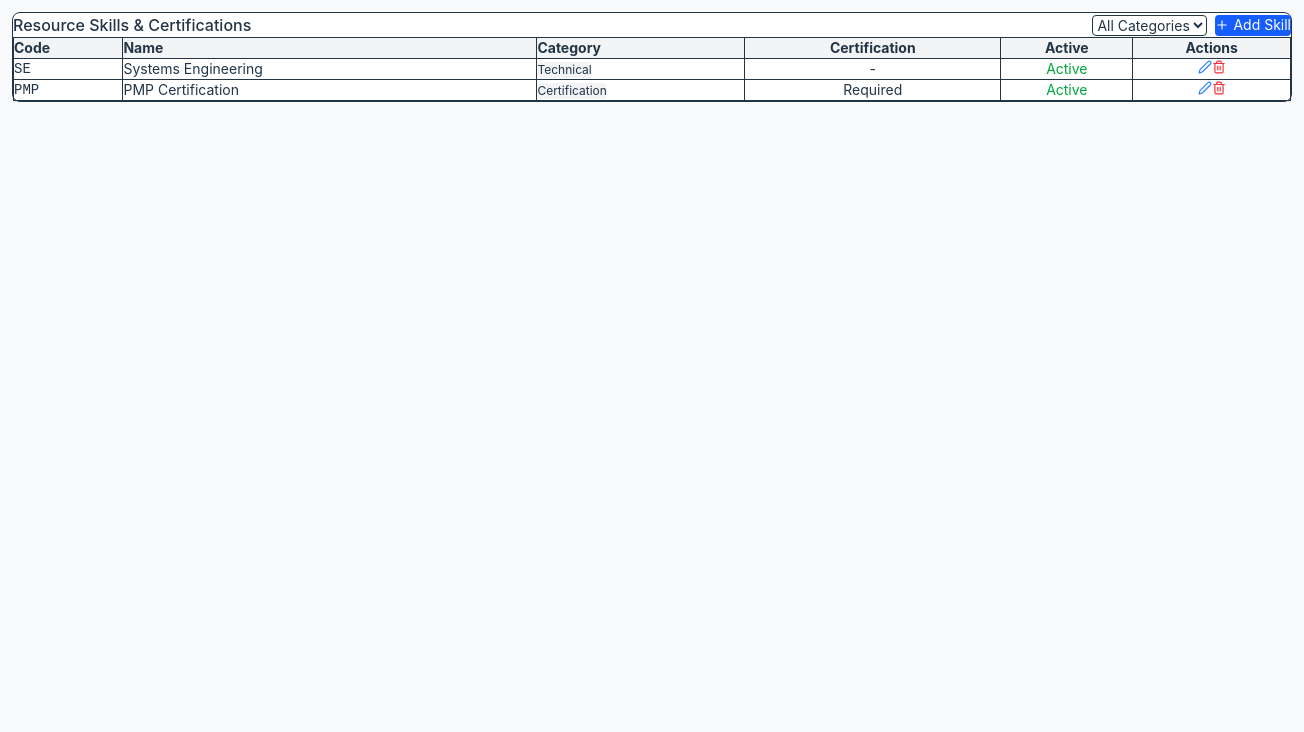
Scenario: SkillsPanel › validates required fields
Click the button "Add Skill" at (1253, 25), box [1215,14,1291,36]
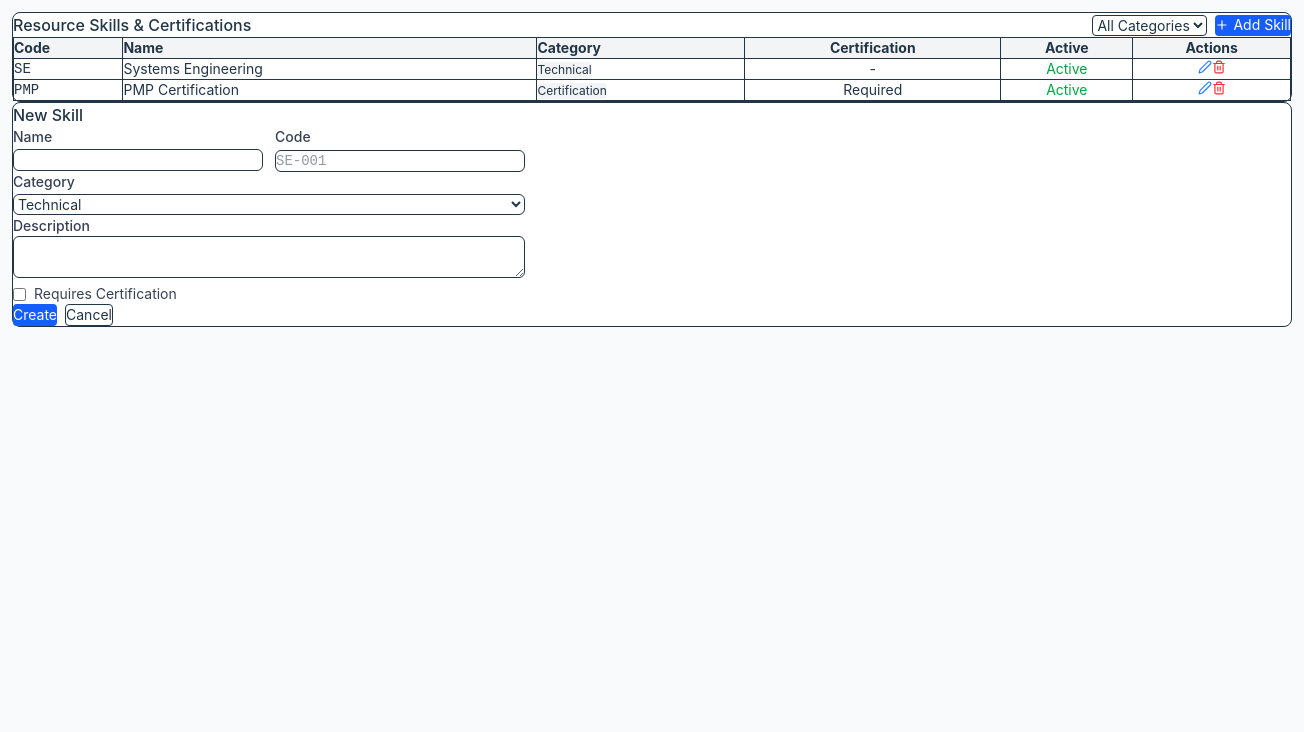
// Leave name and code empty
Click the button "Create" at (35, 315), box [13,304,57,326]
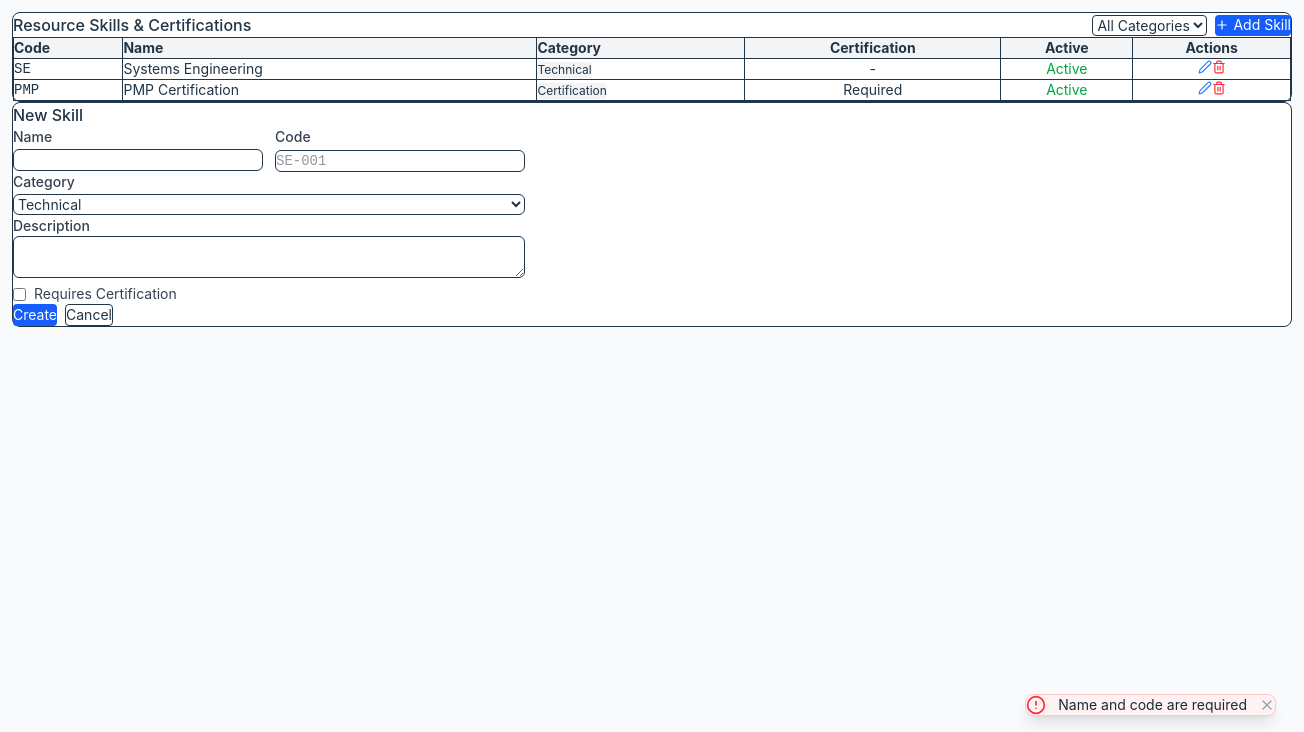
Result: the text "Name and code are required" is shown at [1058,695,1247,715]
